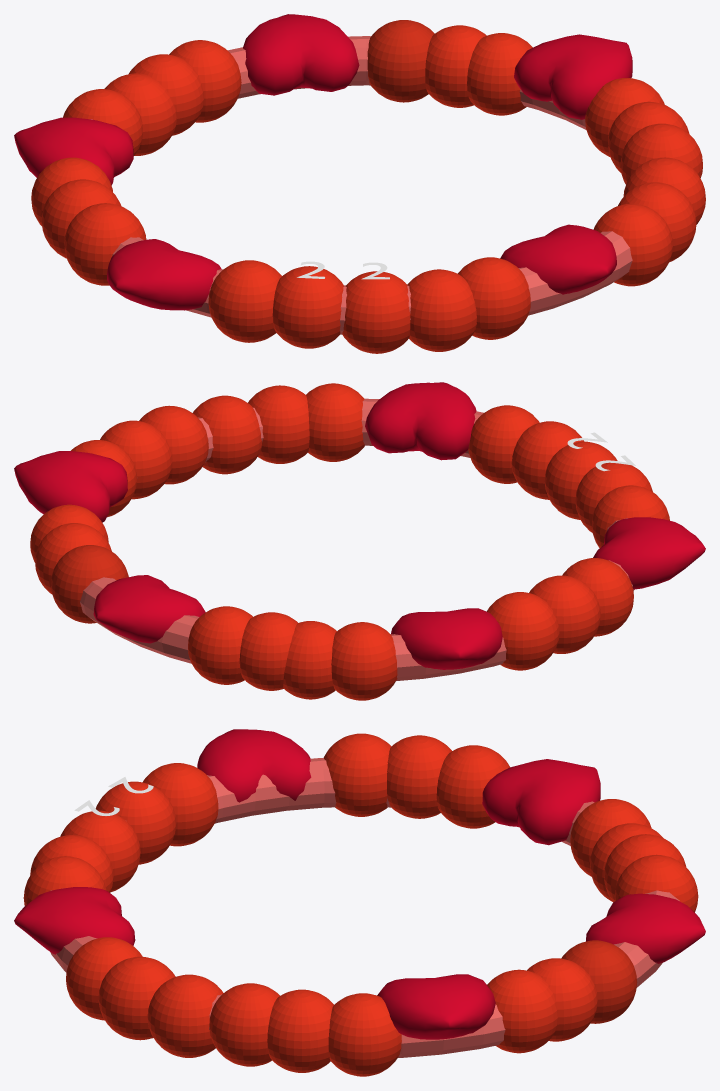
The model's file is Red_22.fbx.
3 views of the same model, one above another, from view 1: azimuth 30°, elevation 25°; view 2: azimuth 150°, elevation 25°; view 3: azimuth 270°, elevation 25° (orthographic). The views are drawn at different scales.
Visible parts, largest first — view 1: Vert.087, Vert.089, Vert.086, Vert.085, Vert.088, Torus.034, Sphere.691, Sphere.694, Sphere.690, Sphere.692, Sphere.679, Sphere.684 (+15 smaller); view 2: Vert.085, Vert.089, Vert.088, Vert.086, Vert.087, Torus.034, Sphere.686, Sphere.696, Sphere.681, Sphere.676, Sphere.693, Sphere.680 (+15 smaller); view 3: Torus.034, Vert.088, Vert.089, Vert.086, Vert.085, Vert.087, Sphere.677, Sphere.676, Sphere.678, Sphere.685, Sphere.687, Sphere.682 (+15 smaller).
Part boxes in pixels (x1,y1,x2,y2): Vert.087: (243, 14, 359, 95); Vert.089: (514, 34, 632, 119); Vert.086: (107, 239, 221, 310); Vert.085: (500, 224, 616, 294); Vert.088: (14, 117, 133, 185); Torus.034: (90, 36, 632, 334); Sphere.691: (272, 266, 343, 348); Sphere.694: (407, 269, 476, 351); Sphere.690: (208, 260, 281, 342); Sphere.692: (342, 271, 410, 353); Sphere.679: (367, 20, 434, 102); Sphere.684: (457, 257, 530, 339); Vert.085: (365, 382, 476, 460); Vert.089: (14, 451, 127, 522); Vert.088: (391, 608, 502, 669); Vert.086: (593, 517, 705, 589); Vert.087: (93, 575, 205, 643); Torus.034: (80, 398, 634, 680); Sphere.686: (331, 622, 397, 700); Sphere.696: (487, 592, 559, 670); Sphere.681: (306, 383, 364, 461); Sphere.676: (193, 395, 261, 474); Sphere.693: (188, 606, 252, 684); Sphere.680: (248, 385, 309, 463); Torus.034: (50, 758, 679, 1057); Vert.088: (482, 759, 600, 845); Vert.089: (377, 974, 495, 1039); Vert.086: (197, 729, 311, 802); Vert.085: (14, 887, 135, 954); Vert.087: (586, 893, 705, 963); Sphere.677: (328, 993, 401, 1076); Sphere.676: (147, 974, 223, 1057); Sphere.678: (267, 989, 333, 1072); Sphere.685: (323, 733, 391, 816); Sphere.687: (209, 983, 279, 1066); Sphere.682: (487, 969, 558, 1053).
Bounding box in the file's own units: 121 × 17.15 × 116.
